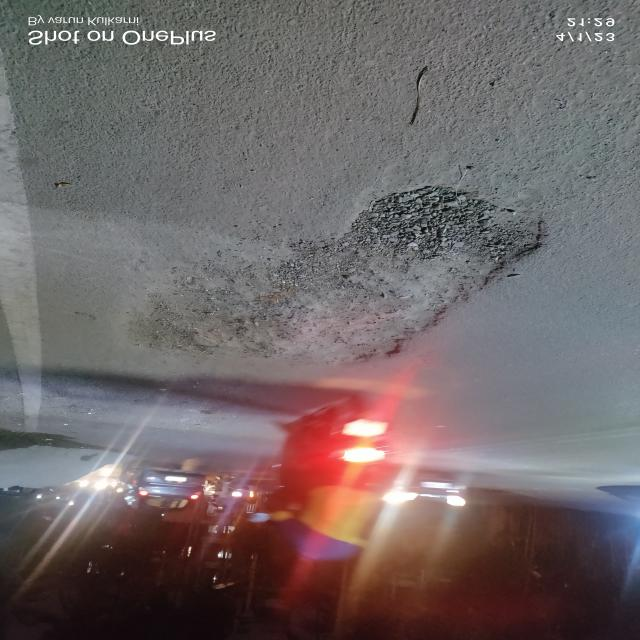potholes: (116, 208, 553, 374)
